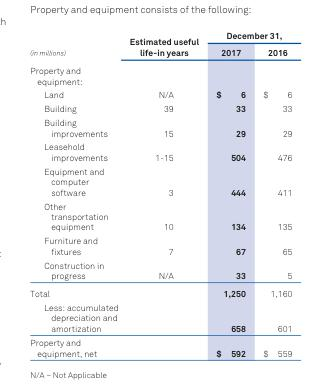table: (29, 29, 291, 358)
table column: (29, 29, 123, 358), (123, 29, 206, 358), (206, 29, 253, 358), (253, 29, 291, 358)
table column header: (29, 29, 291, 61)
table projected row header: (29, 61, 291, 87)
table row: (29, 198, 291, 233), (29, 300, 291, 335), (29, 164, 291, 198), (29, 61, 291, 87), (29, 257, 291, 283), (29, 139, 291, 164), (29, 115, 291, 139), (29, 233, 291, 257), (29, 335, 291, 358), (29, 43, 291, 61), (29, 283, 291, 300), (29, 29, 291, 43), (29, 87, 291, 101), (29, 101, 291, 115)
table spanning cell: (29, 29, 123, 61), (123, 29, 206, 61), (206, 29, 291, 43)
